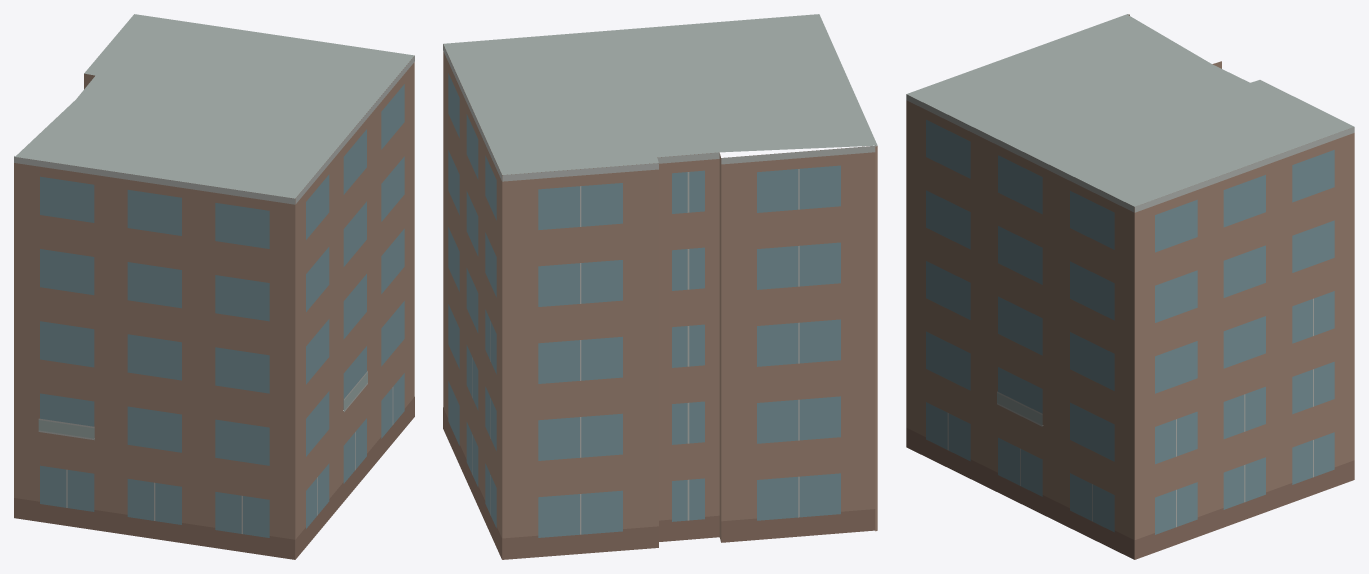
File: survey-upis-32917820.glb
3 views of the same model, side by side, from view 1: azimuth 30°, elevation 25°; view 2: azimuth 150°, elevation 25°; view 3: azimuth 270°, elevation 25° (orthographic). The views are drawn at different scales.
Parts seen in each view (by area): view 1: survey-upis-32917820.tmp; view 2: survey-upis-32917820.tmp; view 3: survey-upis-32917820.tmp.
Boxes of the visible parts, left/top/right/bottom form: survey-upis-32917820.tmp: left=14, top=14, right=414, bottom=559; survey-upis-32917820.tmp: left=443, top=14, right=877, bottom=559; survey-upis-32917820.tmp: left=906, top=14, right=1354, bottom=559.
Bounding box in the file's own units: 16.94 × 14.45 × 16.64.
